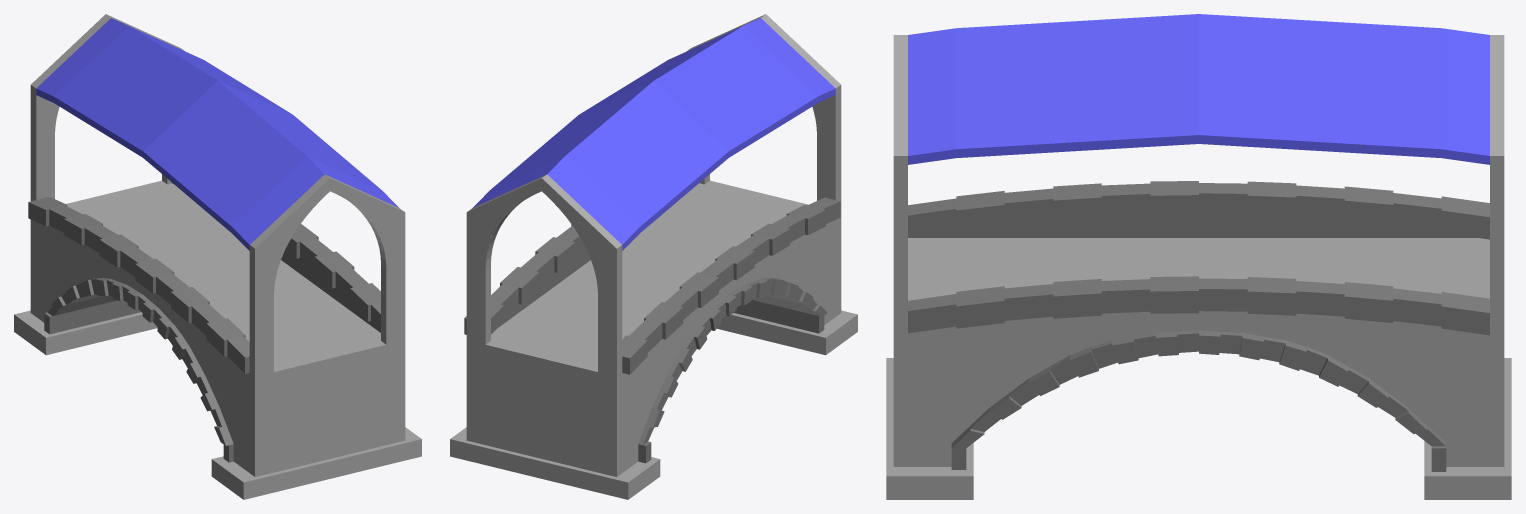
The model's file is Building_Prop_Bridge_Stone_01.FBX.
3 views of the same model, side by side, from view 1: azimuth 30°, elevation 25°; view 2: azimuth 150°, elevation 25°; view 3: azimuth 270°, elevation 25° (orthographic). The views are drawn at different scales.
Parts seen in each view (by area): view 1: Building_Prop_Bridge_Stone_01; view 2: Building_Prop_Bridge_Stone_01; view 3: Building_Prop_Bridge_Stone_01.
Boxes of the visible parts, x1,y1,x2,y2 form: Building_Prop_Bridge_Stone_01: [14, 14, 421, 499]; Building_Prop_Bridge_Stone_01: [450, 14, 857, 499]; Building_Prop_Bridge_Stone_01: [886, 14, 1511, 499].
Size of the model in its own units: 3854 by 6481 by 8605.
